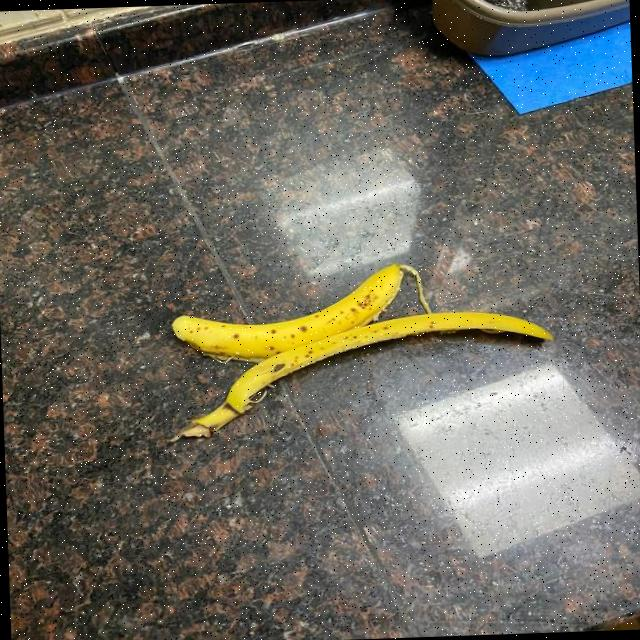banana-peel: (165, 305, 556, 442), (168, 260, 431, 364)
